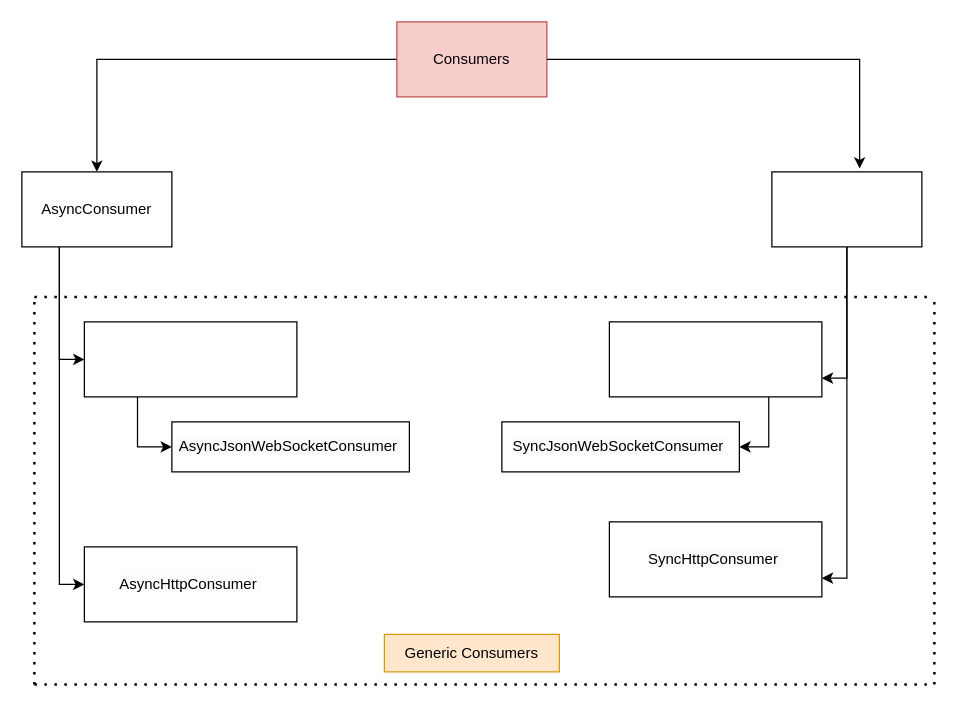
Some shapes in this 959 by 709 pixel diagram are drawn without their labels. The shapes that lost their labels are listed below. From the top down, each one's centre as x and y in pixels, then its label:
At (x=846, y=209): "SyncConsumer".
At (x=190, y=359): "AsyncWebSoketConsumer".
At (x=715, y=359): "SyncWebSoketConsumer".
